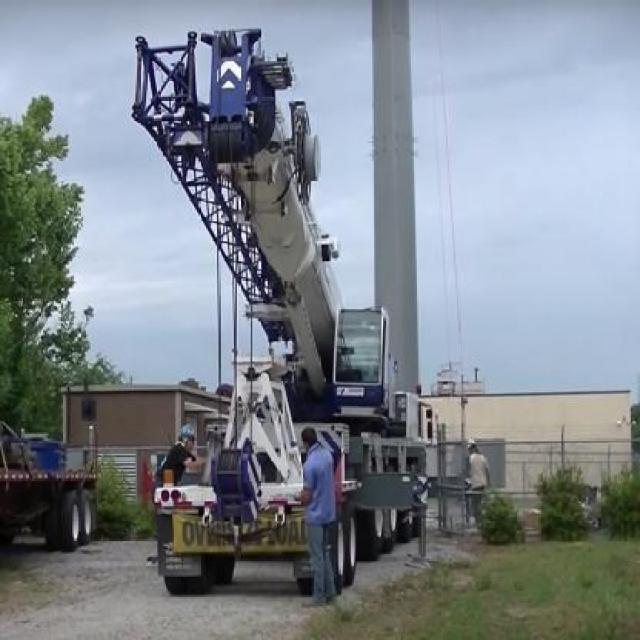Mobile Crane: (128, 29, 426, 593)
